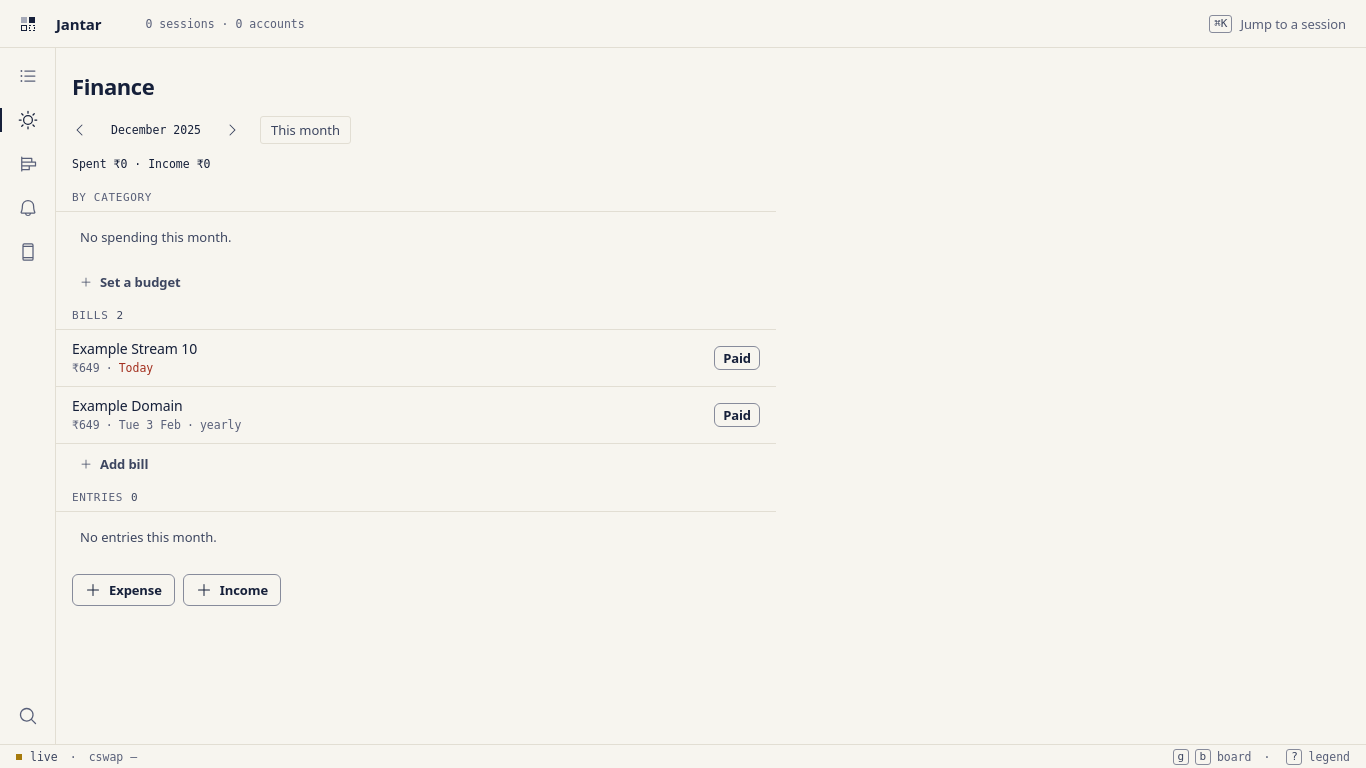
it: Finance: entries › a past month starts a new entry on its first day
Expected: the text "December 2025" is shown, [111, 123, 201, 137]
Click the button "Expense".
click(123, 590)  # box [72, 574, 175, 606]
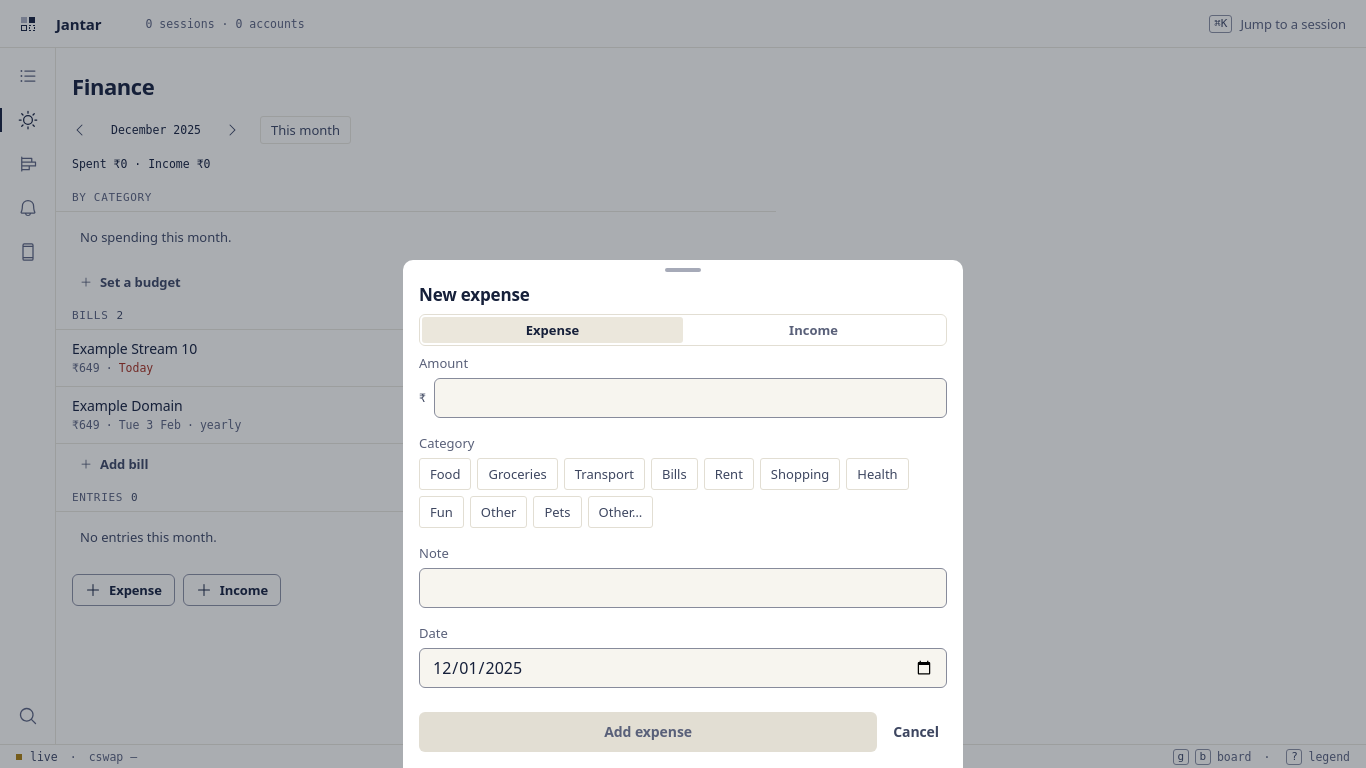
Expected: the date field labelled "Date" holds "2025-12-01", [419, 648, 947, 688]
